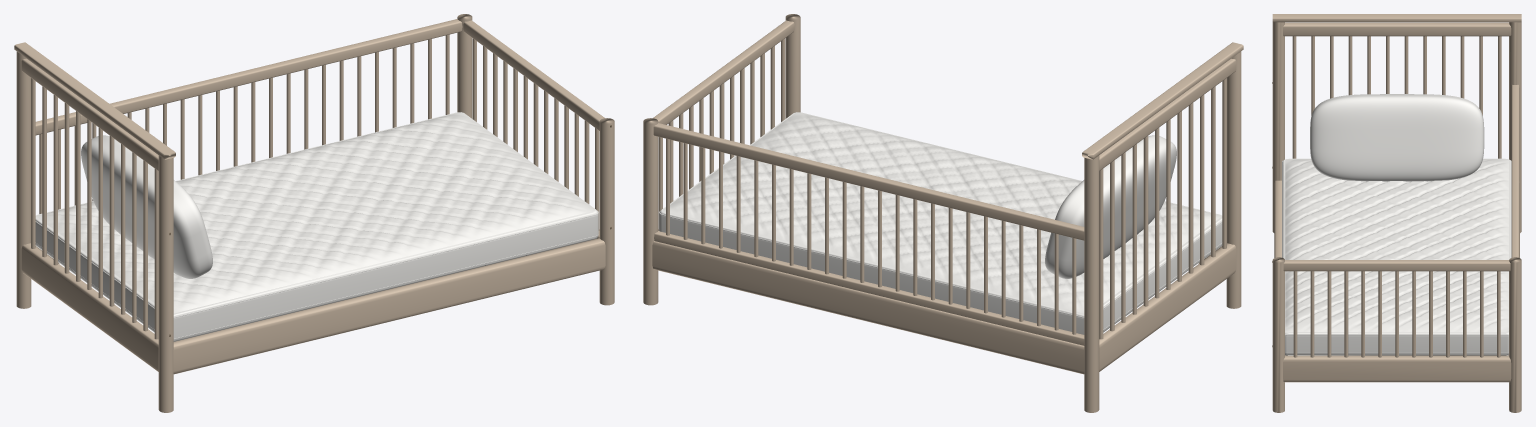
File: bling3_beige_junior.glb
3 views of the same model, side by side, from view 1: azimuth 30°, elevation 25°; view 2: azimuth 150°, elevation 25°; view 3: azimuth 270°, elevation 25° (orthographic). The views are drawn at different scales.
Visible parts, largest first — view 1: White diamond quilted comforter, Fitted ivory mattress covering bed deck 2000 x 1110 x 120 mm, Solid long base rail, Rounded bed post (×4), Soft white rectangular pillow, Back full top rail, End base rail, Head floating crown, Foot upper rail, Head upper cross rail, Mattress piping (×2), Head vertical spindle 07 (+11 smaller); view 2: White diamond quilted comforter, Solid long base rail, Rounded bed post (×4), Fitted ivory mattress covering bed deck 2000 x 1110 x 120 mm, Soft white rectangular pillow, Back full top rail, Back lower rail, End base rail, Head floating crown, Foot upper rail, Head upper cross rail, Head vertical spindle 04 (+12 smaller); view 3: White diamond quilted comforter, Soft white rectangular pillow, Rounded bed post (×4), End base rail, Fitted ivory mattress covering bed deck 2000 x 1110 x 120 mm, Head upper cross rail, Foot upper rail, Head floating crown, Back full top rail, Mattress piping (×2), Solid long base rail, Head vertical spindle 11 (+20 smaller).
Boxes of the visible parts, x1,y1,x2,y2 form: White diamond quilted comforter: [36, 112, 595, 313]; Fitted ivory mattress covering bed deck 2000 x 1110 x 120 mm: [35, 112, 598, 341]; Solid long base rail: [173, 238, 605, 374]; Rounded bed post (×4): [16, 14, 614, 412]; Soft white rectangular pillow: [81, 135, 212, 278]; Back full top rail: [35, 19, 462, 135]; End base rail: [21, 243, 158, 371]; Head floating crown: [14, 42, 175, 159]; Foot upper rail: [463, 20, 604, 130]; Head upper cross rail: [21, 58, 158, 170]; Mattress piping (×2): [35, 211, 598, 339]; Head vertical spindle 07: [109, 136, 114, 306]; White diamond quilted comforter: [662, 112, 1221, 313]; Solid long base rail: [652, 241, 1084, 374]; Rounded bed post (×4): [643, 14, 1241, 412]; Fitted ivory mattress covering bed deck 2000 x 1110 x 120 mm: [659, 112, 1222, 334]; Soft white rectangular pillow: [1045, 135, 1176, 278]; Back full top rail: [653, 123, 1084, 240]; Back lower rail: [654, 231, 1084, 345]; End base rail: [1099, 243, 1236, 371]; Head floating crown: [1082, 42, 1243, 159]; Foot upper rail: [653, 20, 794, 124]; Head upper cross rail: [1099, 58, 1236, 170]; Head vertical spindle 04: [1143, 136, 1148, 306]; White diamond quilted comforter: [1285, 159, 1508, 331]; Soft white rectangular pillow: [1310, 94, 1484, 181]; Rounded bed post (×4): [1272, 22, 1521, 412]; End base rail: [1283, 355, 1511, 382]; Fitted ivory mattress covering bed deck 2000 x 1110 x 120 mm: [1282, 158, 1511, 355]; Head upper cross rail: [1283, 22, 1511, 36]; Foot upper rail: [1283, 260, 1510, 271]; Head floating crown: [1272, 14, 1521, 22]; Back full top rail: [1511, 85, 1519, 257]; Mattress piping (×2): [1282, 161, 1508, 353]; Solid long base rail: [1274, 180, 1281, 257]; Head vertical spindle 11: [1292, 36, 1296, 158].
Bounding box in the file's own units: 2.1 × 1.15 × 1.2.
